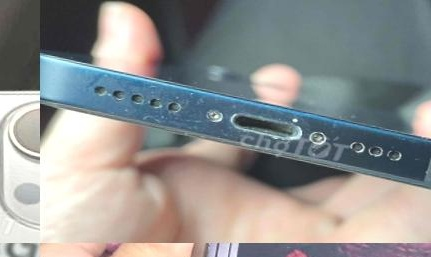scratch: (43, 54, 431, 202), (200, 243, 255, 257)
